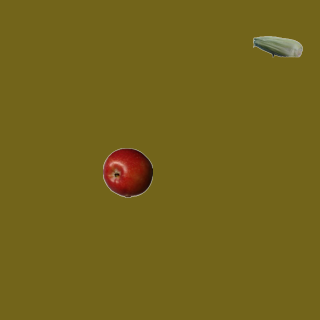Apple Braeburn: (102, 147, 152, 197)
Corn Husk: (252, 21, 302, 71)
